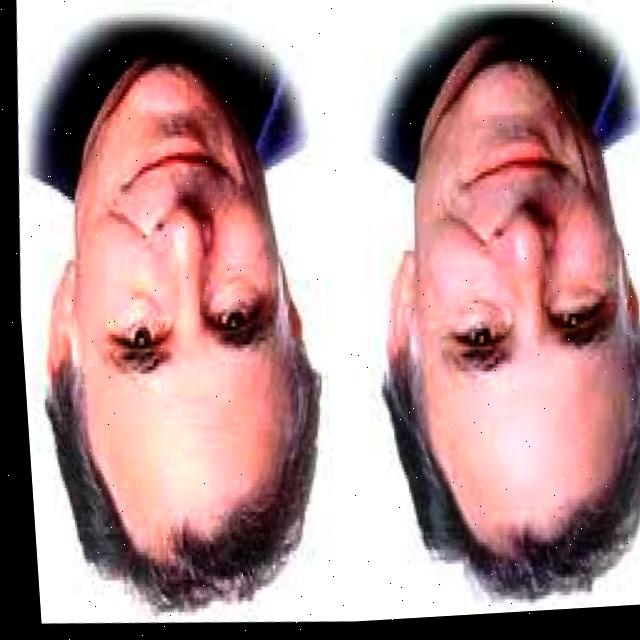happy: (384, 74, 640, 584)
